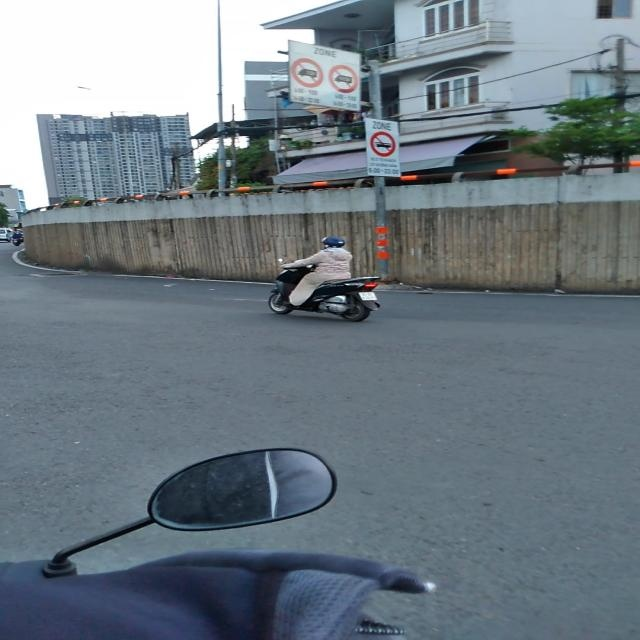bien_cam: (290, 58, 324, 88), (328, 64, 359, 94), (370, 131, 396, 157)
